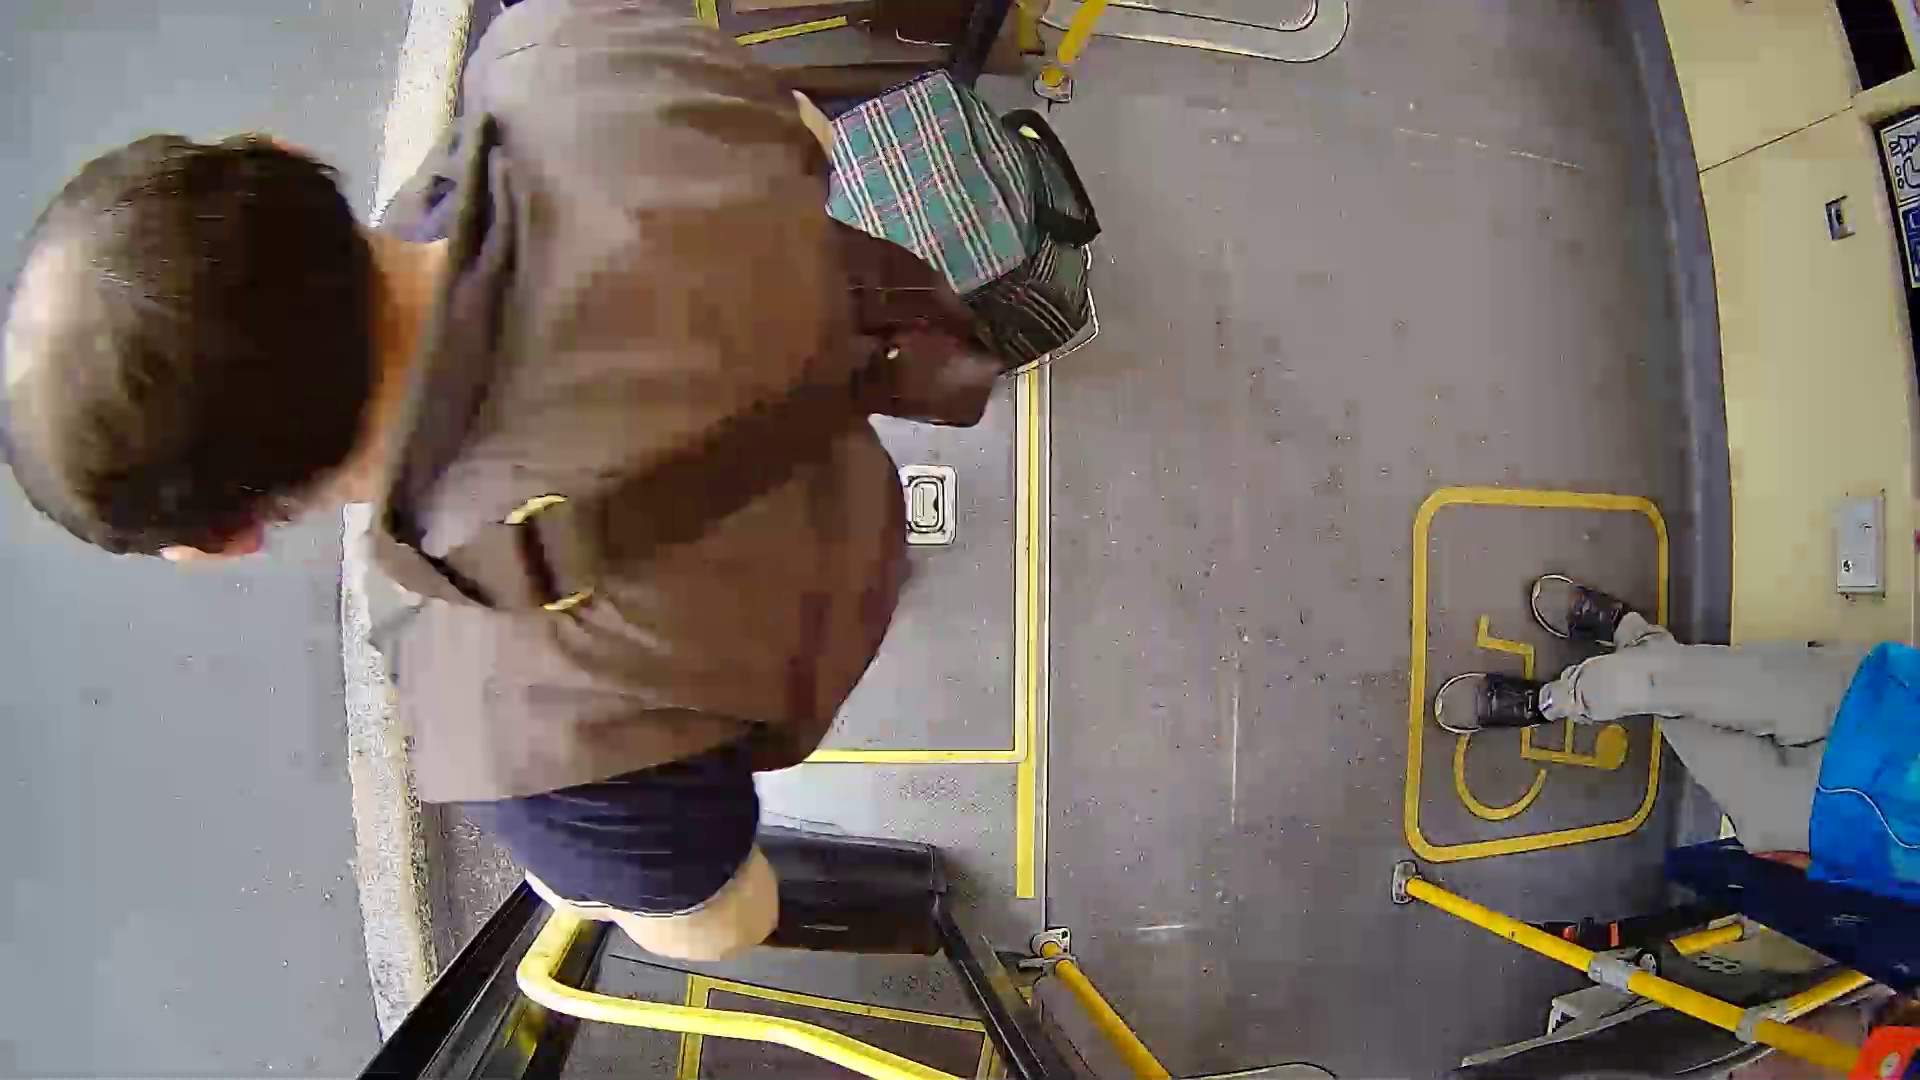person: (21, 65, 973, 917)
